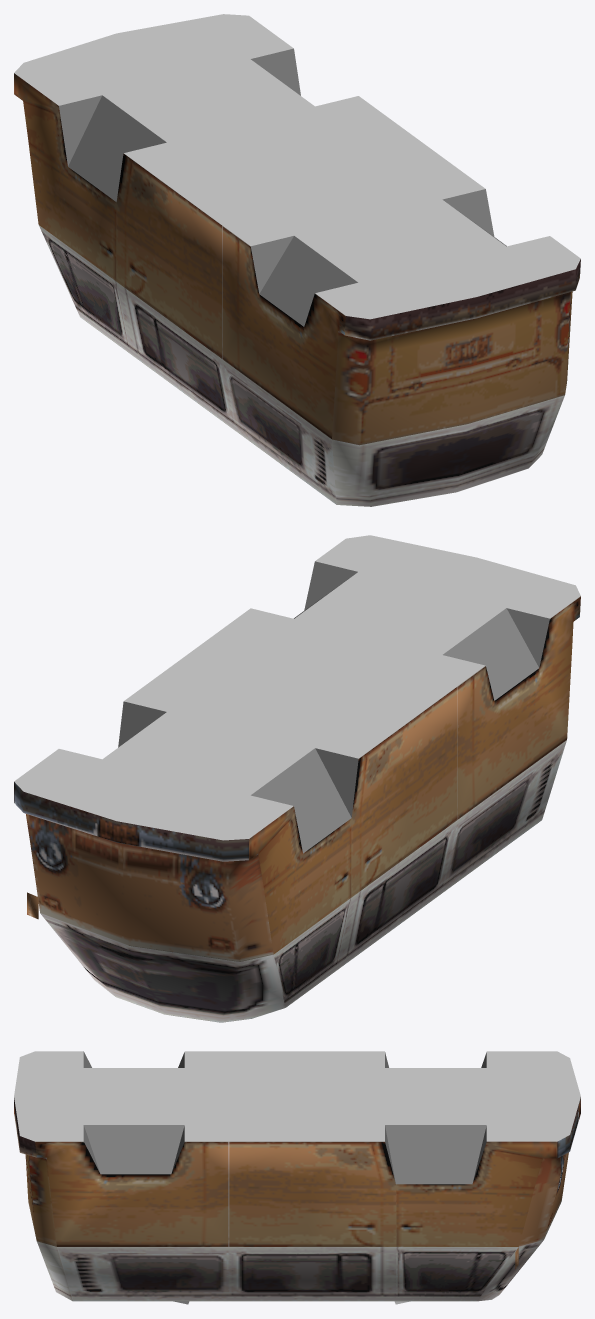
File: HAVANA_model11_clean.mtl.obj
3 views of the same model, one above another, from view 1: azimuth 30°, elevation 25°; view 2: azimuth 150°, elevation 25°; view 3: azimuth 270°, elevation 25° (orthographic). The views are drawn at different scales.
Parts seen in each view (by area): view 1: HAVANA_model11_clean_set21_id5_ft, HAVANA_model11_clean_set44_id5, HAVANA_model11_clean_set44_id8, HAVANA_model11_clean_set44_id10, HAVANA_model11_clean_flat, HAVANA_model11_clean_set44_id14, HAVANA_model11_clean_set44_id4, HAVANA_model11_clean_set44_id13, HAVANA_model11_clean_set45_id2, HAVANA_model11_clean_set45_id3, HAVANA_model11_clean_set45_id1; view 2: HAVANA_model11_clean_set21_id5_ft, HAVANA_model11_clean_set44_id0, HAVANA_model11_clean_set44_id8, HAVANA_model11_clean_flat, HAVANA_model11_clean_set44_id14, HAVANA_model11_clean_set45_id0, HAVANA_model11_clean_set44_id1, HAVANA_model11_clean_set44_id13, HAVANA_model11_clean_set45_id2, HAVANA_model11_clean_set45_id3, HAVANA_model11_clean_set45_id1; view 3: HAVANA_model11_clean_set21_id5_ft, HAVANA_model11_clean_set44_id8, HAVANA_model11_clean_set44_id14, HAVANA_model11_clean_set44_id13, HAVANA_model11_clean_flat, HAVANA_model11_clean_set45_id2, HAVANA_model11_clean_set45_id3, HAVANA_model11_clean_set45_id1, HAVANA_model11_clean_set44_id1, HAVANA_model11_clean_set44_id4, HAVANA_model11_clean_set45_id0, HAVANA_model11_clean_set44_id10.
Part boxes in pixels (x1=…): HAVANA_model11_clean_set21_id5_ft: x1=14, y1=14, x2=580, y2=319; HAVANA_model11_clean_set44_id5: x1=332, y1=297, x2=476, y2=445; HAVANA_model11_clean_set44_id8: x1=116, y1=153, x2=222, y2=358; HAVANA_model11_clean_set44_id10: x1=332, y1=395, x2=564, y2=506; HAVANA_model11_clean_flat: x1=59, y1=48, x2=506, y2=326; HAVANA_model11_clean_set44_id14: x1=222, y1=226, x2=345, y2=438; HAVANA_model11_clean_set44_id4: x1=467, y1=259, x2=580, y2=423; HAVANA_model11_clean_set44_id13: x1=14, y1=73, x2=116, y2=281; HAVANA_model11_clean_set45_id2: x1=116, y1=282, x2=236, y2=431; HAVANA_model11_clean_set45_id3: x1=222, y1=359, x2=336, y2=504; HAVANA_model11_clean_set45_id1: x1=39, y1=225, x2=131, y2=354; HAVANA_model11_clean_set21_id5_ft: x1=14, y1=535, x2=580, y2=840; HAVANA_model11_clean_set44_id0: x1=27, y1=821, x2=273, y2=961; HAVANA_model11_clean_set44_id8: x1=351, y1=686, x2=457, y2=896; HAVANA_model11_clean_flat: x1=118, y1=561, x2=549, y2=853; HAVANA_model11_clean_set44_id14: x1=457, y1=596, x2=580, y2=819; HAVANA_model11_clean_set45_id0: x1=40, y1=913, x2=285, y2=1022; HAVANA_model11_clean_set44_id1: x1=14, y1=782, x2=128, y2=945; HAVANA_model11_clean_set44_id13: x1=249, y1=806, x2=351, y2=954; HAVANA_model11_clean_set45_id2: x1=337, y1=820, x2=457, y2=969; HAVANA_model11_clean_set45_id3: x1=442, y1=740, x2=566, y2=892; HAVANA_model11_clean_set45_id1: x1=274, y1=898, x2=351, y2=1007; HAVANA_model11_clean_set21_id5_ft: x1=14, y1=1051, x2=580, y2=1141; HAVANA_model11_clean_set44_id8: x1=229, y1=1141, x2=395, y2=1246; HAVANA_model11_clean_set44_id14: x1=35, y1=1141, x2=229, y2=1246; HAVANA_model11_clean_set44_id13: x1=396, y1=1141, x2=557, y2=1246; HAVANA_model11_clean_flat: x1=83, y1=1051, x2=486, y2=1184; HAVANA_model11_clean_set45_id2: x1=229, y1=1247, x2=395, y2=1301; HAVANA_model11_clean_set45_id3: x1=57, y1=1247, x2=229, y2=1301; HAVANA_model11_clean_set45_id1: x1=396, y1=1247, x2=518, y2=1301; HAVANA_model11_clean_set44_id1: x1=519, y1=1097, x2=580, y2=1246; HAVANA_model11_clean_set44_id4: x1=14, y1=1098, x2=56, y2=1246; HAVANA_model11_clean_set45_id0: x1=477, y1=1240, x2=543, y2=1301; HAVANA_model11_clean_set44_id10: x1=37, y1=1241, x2=72, y2=1300.
Size of the model in its own units: 269 by 269 by 674.
16 materials, 14 textured.
